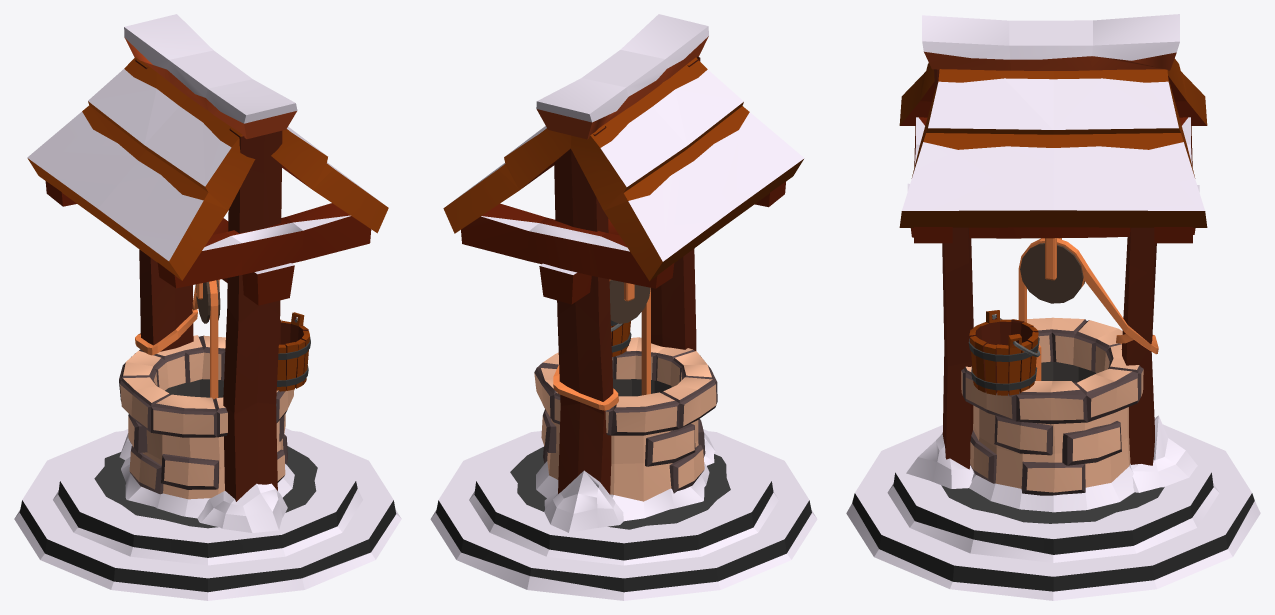
Rendered from winter_castle_waterhole2.glb.
3 views of the same model, side by side, from view 1: azimuth 30°, elevation 25°; view 2: azimuth 150°, elevation 25°; view 3: azimuth 270°, elevation 25° (orthographic). The views are drawn at different scales.
Parts seen in each view (by area): view 1: Waterhole2_Medieval_0; view 2: Waterhole2_Medieval_0; view 3: Waterhole2_Medieval_0.
Part boxes in pixels (x1,y1,x2,y2): Waterhole2_Medieval_0: (14,14,401,600); Waterhole2_Medieval_0: (430,14,817,600); Waterhole2_Medieval_0: (846,14,1260,600).
Bounding box in the file's own units: 1.48 × 1.92 × 1.48.
Materials: 1 (1 with a texture image).
